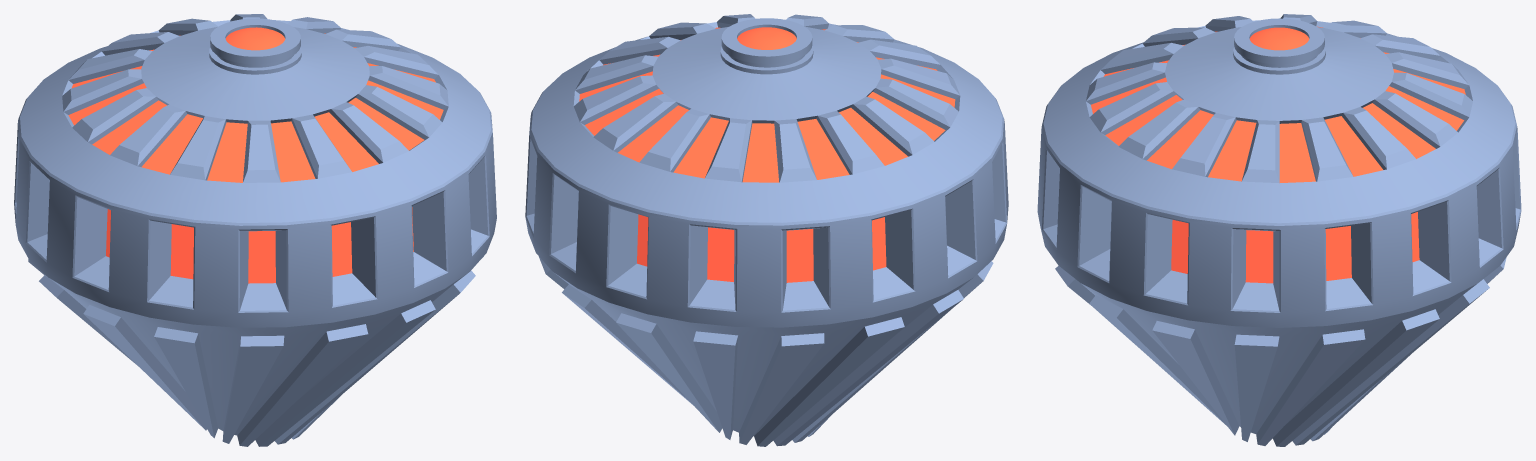
Rendered from landmine.fbx.
The picture shows the model from 3 angles, left to right: view 1: azimuth 30°, elevation 25°; view 2: azimuth 150°, elevation 25°; view 3: azimuth 270°, elevation 25°; orthographic projection.
Visible parts, largest first — view 1: Landmine; view 2: Landmine; view 3: Landmine.
Boxes of the visible parts, <box> form: Landmine: <box>14,14,496,446</box>; Landmine: <box>525,14,1008,446</box>; Landmine: <box>1037,14,1521,446</box>.
Size of the model in its own units: 239 by 213 by 239.
